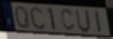1: (47, 6, 57, 32)
C: (29, 6, 47, 31), (60, 9, 76, 33)
I: (94, 10, 103, 35)
Q: (14, 5, 31, 30)
U: (75, 9, 92, 34)
